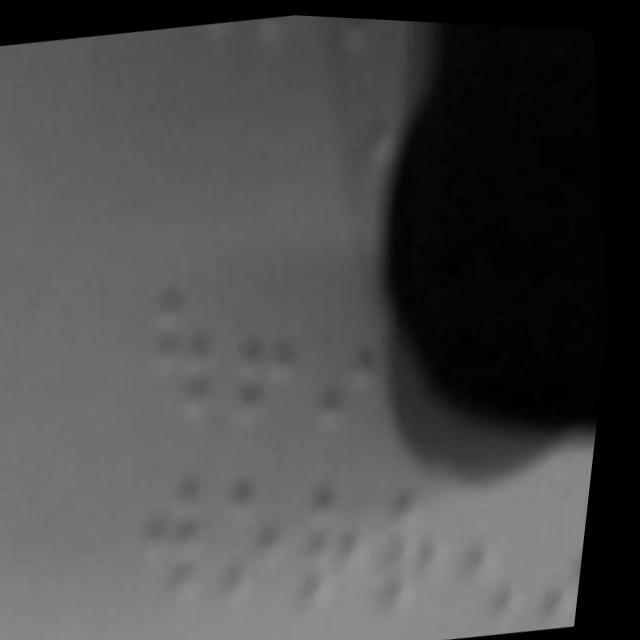braiile: (209, 454, 323, 620), (297, 272, 409, 435), (136, 269, 242, 436), (216, 266, 323, 431), (293, 459, 400, 620), (371, 466, 481, 620), (136, 461, 240, 614), (457, 479, 556, 626), (531, 464, 602, 619)
